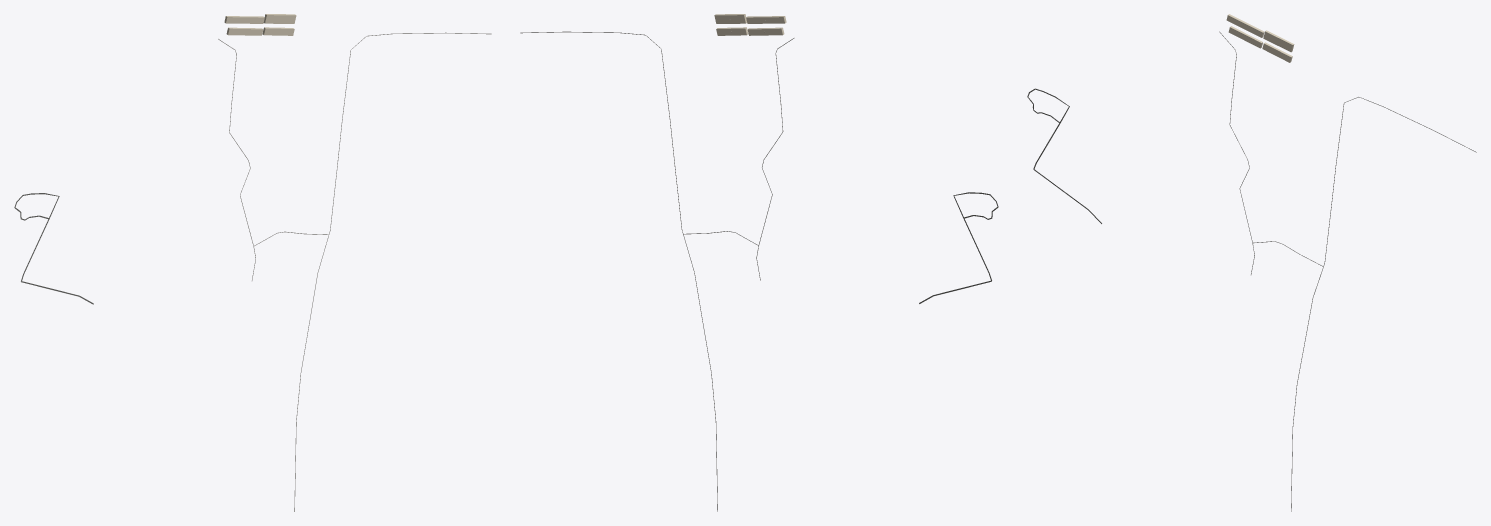
Rendered from historic-palestine-07_29_3493_3233.glb.
The picture shows the model from 3 angles, left to right: view 1: azimuth 30°, elevation 25°; view 2: azimuth 150°, elevation 25°; view 3: azimuth 330°, elevation 25°; orthographic projection. The views are drawn at different scales.
Visible parts, largest first — view 1: Road .003; view 2: Road .003; view 3: Road .003.
Part boxes in pixels (box(x1,y1,x2,y2)): Road .003: box(294, 32, 491, 511); Road .003: box(520, 31, 717, 511); Road .003: box(1291, 97, 1476, 511).
Bounding box in the file's own units: 1364 × 1396 × 8.7.
